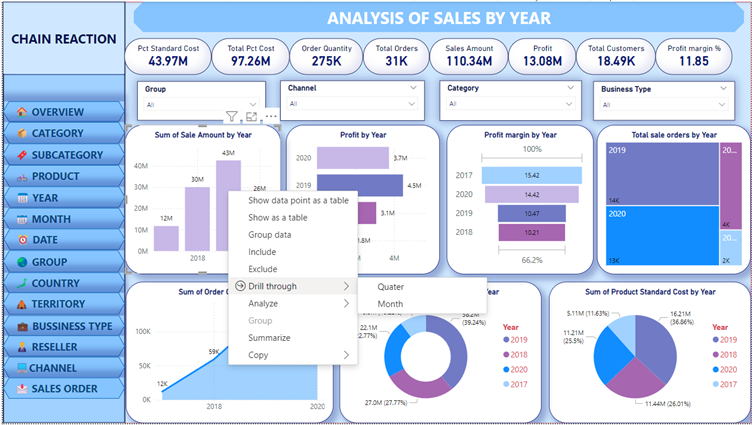

The dashboard page shown, as its layout file describes it:
{"tool":"powerbi","page":{"name":"Year","canvas":[1280,720],"ordinal":6},"visuals":[{"type":"shape","box":[207.6,0,1072.4,720.2],"z":0},{"type":"shape","box":[0,0,209.9,720.4],"z":1000},{"type":"shape","box":[0.4,0,209.1,124.7],"z":2000},{"type":"shape","box":[0,170.1,208.6,35],"z":3000},{"type":"shape","box":[0,205,209,37],"z":4000},{"type":"shape","box":[0,242,209,37],"z":5000},{"type":"shape","box":[0,279,209,37],"z":6000},{"type":"shape","box":[1,316,208,36],"z":7000},{"type":"shape","box":[0,352,209,36],"z":8000},{"type":"shape","box":[1,388,208,36],"z":9000},{"type":"shape","box":[0,424,208,38],"z":10000},{"type":"shape","box":[0,462,209,35],"z":11000},{"type":"shape","box":[0,497,209,38],"z":12000},{"type":"shape","box":[0,535,209,35],"z":13000},{"type":"shape","box":[0,570,209,36],"z":14000},{"type":"shape","box":[0,606,209,36],"z":15000},{"type":"shape","box":[0,642,209,36],"z":16000},{"type":"card","title":"Order Quantity","fields":{"Values":["Sum(Sales.Order Quantity)"]},"box":[490.4,62.4,126,62.4],"z":17000},{"type":"card","title":"Pct Standard Cost","fields":{"Values":["Sum(Sales.Product Standard Cost)"]},"box":[207.9,62.4,149.2,62.4],"z":18000},{"type":"card","title":"Sales Amount","fields":{"Values":["Sum(Sales.Sale Amount)"]},"box":[730,62.4,134.5,62.4],"z":19000},{"type":"card","title":"Profit","fields":{"Values":["Sales.Profit"]},"box":[864.5,62.4,116.2,62.4],"z":20000},{"type":"card","title":"Total Pct Cost","fields":{"Values":["Sum(Sales.Total Product Cost)"]},"box":[357.1,62.4,133.3,62.4],"z":21000},{"type":"card","title":"Total Orders","fields":{"Values":["Sales.Total sale orders"]},"box":[616.3,62.4,113.7,62.4],"z":22000},{"type":"card","title":"Total Customers","fields":{"Values":["Count(Customer.Customer ID)"]},"box":[980.7,62.4,135.7,62.4],"z":23000},{"type":"card","title":"Profit margin %","fields":{"Values":["Sales.Profit margin"]},"box":[1116.4,62.4,130.8,62.4],"z":24000},{"type":"slicer","title":"Date","fields":{"Values":["Business Type.Business Type"]},"box":[1010.1,135.7,242.1,67.3],"z":25000},{"type":"slicer","title":"Category","fields":{"Values":["Category.Category"]},"box":[747.2,134.5,243.3,68.5],"z":26000},{"type":"slicer","title":"Channel","fields":{"Values":["Channel.Channel"]},"box":[474.5,134.5,247,68.5],"z":27000},{"type":"slicer","title":"Group","fields":{"Values":["Group.Group"]},"box":[229.9,135.7,220.1,67.3],"z":28000},{"type":"shape","title":"dbdbdjb","box":[223.7,0,1044.3,52.1],"z":29000},{"type":"pieChart","fields":{"Y":["Sum(Sales.Product Standard Cost)"],"Category":["Date.Year"]},"box":[934.2,478.5,345.8,241.5],"z":30000},{"type":"areaChart","fields":{"Category":["Date.Year"],"Y":["Sum(Sales.Order Quantity)"]},"box":[209.9,478.5,355.4,241.5],"z":31000},{"type":"donutChart","fields":{"Category":["Date.Year"],"Y":["Sum(Sales.Total Product Cost)"]},"box":[576.3,478.5,345.8,241.5],"z":32000},{"type":"clusteredBarChart","fields":{"Category":["Date.Year"],"Y":["Sales.Profit"]},"box":[484.4,209.9,263.5,255.2],"z":33000},{"type":"columnChart","fields":{"Category":["Date.Year"],"Y":["Sum(Sales.Sale Amount)"]},"box":[208.6,209.9,266.2,255.2],"z":34000},{"type":"funnel","fields":{"Category":["Date.Year"],"Y":["Sales.Profit margin"]},"box":[758.8,209.9,251.1,255.2],"z":35000},{"type":"treemap","fields":{"Group":["Date.Year"],"Values":["Sales.Total sale orders"]},"box":[1016.5,209.9,263.5,255.2],"z":36000}]}

Visuals, with their boxes on the page's 1280x720 design canvas (x1, y1, x2, y2). These are canvas units, not pixel positions in the 752x425 screenshot, which may show the page scaled, cropped or inside an application window:
shape: {"left": 208, "top": 0, "right": 1280, "bottom": 720}
shape: {"left": 0, "top": 0, "right": 210, "bottom": 720}
shape: {"left": 0, "top": 0, "right": 210, "bottom": 125}
shape: {"left": 0, "top": 170, "right": 209, "bottom": 205}
shape: {"left": 0, "top": 205, "right": 209, "bottom": 242}
shape: {"left": 0, "top": 242, "right": 209, "bottom": 279}
shape: {"left": 0, "top": 279, "right": 209, "bottom": 316}
shape: {"left": 1, "top": 316, "right": 209, "bottom": 352}
shape: {"left": 0, "top": 352, "right": 209, "bottom": 388}
shape: {"left": 1, "top": 388, "right": 209, "bottom": 424}
shape: {"left": 0, "top": 424, "right": 208, "bottom": 462}
shape: {"left": 0, "top": 462, "right": 209, "bottom": 497}
shape: {"left": 0, "top": 497, "right": 209, "bottom": 535}
shape: {"left": 0, "top": 535, "right": 209, "bottom": 570}
shape: {"left": 0, "top": 570, "right": 209, "bottom": 606}
shape: {"left": 0, "top": 606, "right": 209, "bottom": 642}
shape: {"left": 0, "top": 642, "right": 209, "bottom": 678}
"Order Quantity" card: {"left": 490, "top": 62, "right": 616, "bottom": 125}
"Pct Standard Cost" card: {"left": 208, "top": 62, "right": 357, "bottom": 125}
"Sales Amount" card: {"left": 730, "top": 62, "right": 864, "bottom": 125}
"Profit" card: {"left": 864, "top": 62, "right": 981, "bottom": 125}
"Total Pct Cost" card: {"left": 357, "top": 62, "right": 490, "bottom": 125}
"Total Orders" card: {"left": 616, "top": 62, "right": 730, "bottom": 125}
"Total Customers" card: {"left": 981, "top": 62, "right": 1116, "bottom": 125}
"Profit margin %" card: {"left": 1116, "top": 62, "right": 1247, "bottom": 125}
"Date" slicer: {"left": 1010, "top": 136, "right": 1252, "bottom": 203}
"Category" slicer: {"left": 747, "top": 134, "right": 990, "bottom": 203}
"Channel" slicer: {"left": 474, "top": 134, "right": 722, "bottom": 203}
"Group" slicer: {"left": 230, "top": 136, "right": 450, "bottom": 203}
"dbdbdjb" shape: {"left": 224, "top": 0, "right": 1268, "bottom": 52}
pieChart - Sum(Sales.Product Standard Cost) x Date.Year: {"left": 934, "top": 478, "right": 1280, "bottom": 720}
areaChart - Date.Year x Sum(Sales.Order Quantity): {"left": 210, "top": 478, "right": 565, "bottom": 720}
donutChart - Date.Year x Sum(Sales.Total Product Cost): {"left": 576, "top": 478, "right": 922, "bottom": 720}
clusteredBarChart - Date.Year x Sales.Profit: {"left": 484, "top": 210, "right": 748, "bottom": 465}
columnChart - Date.Year x Sum(Sales.Sale Amount): {"left": 209, "top": 210, "right": 475, "bottom": 465}
funnel - Date.Year x Sales.Profit margin: {"left": 759, "top": 210, "right": 1010, "bottom": 465}
treemap - Date.Year x Sales.Total sale orders: {"left": 1016, "top": 210, "right": 1280, "bottom": 465}
